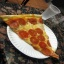pepperoni: (18, 31, 50, 48), (8, 18, 45, 27), (39, 48, 56, 55)
pizza: (1, 14, 61, 59)
